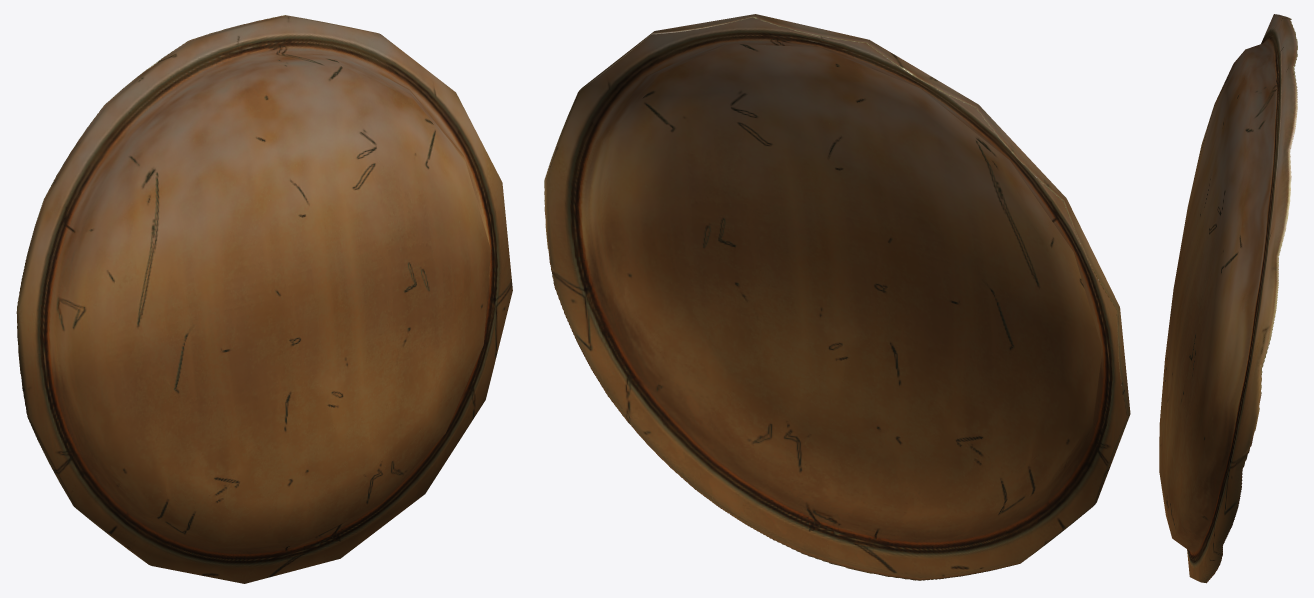
The model's file is aspis_01_front.dae.
The picture shows the model from 3 angles, left to right: view 1: azimuth 30°, elevation 25°; view 2: azimuth 150°, elevation 25°; view 3: azimuth 270°, elevation 25°; orthographic projection. The views are drawn at different scales.
Parts seen in each view (by area): view 1: Aspis_Front.001; view 2: Aspis_Front.001; view 3: Aspis_Front.001.
Part boxes in pixels (left/top/right/bottom): Aspis_Front.001: left=16, top=15, right=512, bottom=583; Aspis_Front.001: left=544, top=14, right=1130, bottom=580; Aspis_Front.001: left=1159, top=14, right=1297, bottom=583.
Size of the model in its own units: 2.02 by 0.4961 by 1.99.
Materials: 1 (1 with a texture image).
